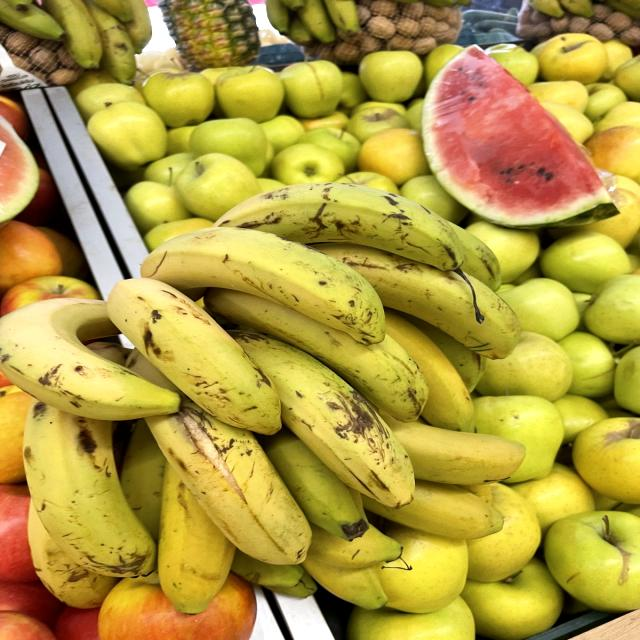banana: (143, 228, 409, 347)
